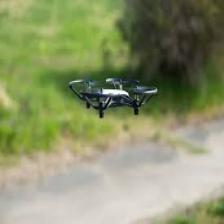drone: (70, 78, 158, 116)
